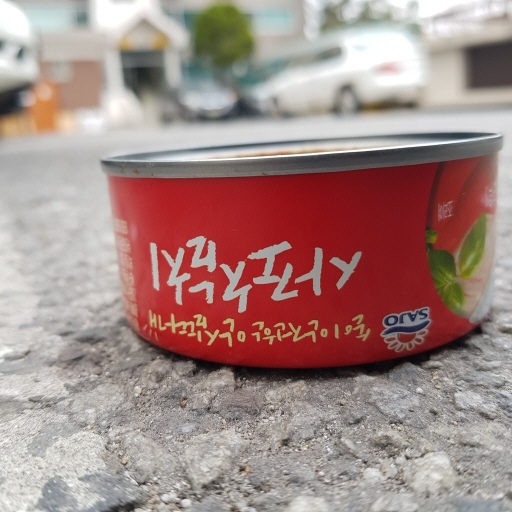Metal_1: (97, 124, 505, 370)
